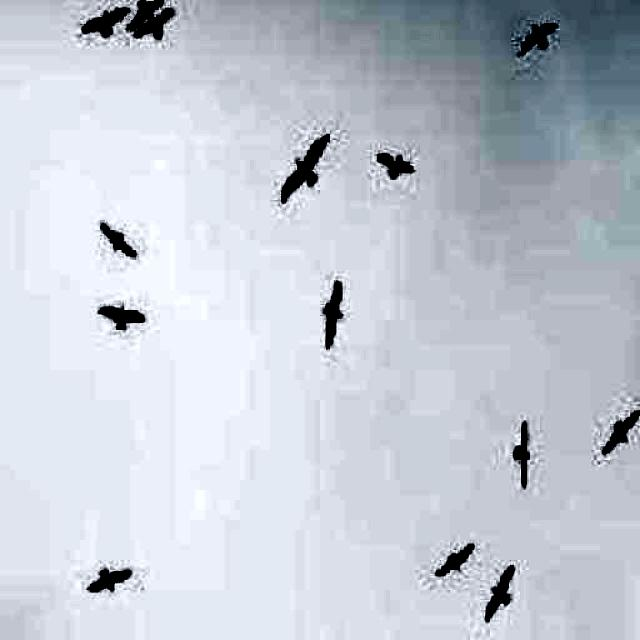airplane: (279, 138, 329, 205), (604, 410, 640, 454), (486, 568, 514, 624), (99, 221, 138, 259), (80, 8, 130, 36), (99, 302, 145, 331), (436, 544, 474, 578), (134, 9, 174, 41), (325, 278, 342, 350), (519, 24, 555, 58), (128, 0, 165, 31), (90, 569, 134, 595), (515, 421, 531, 489), (376, 154, 414, 180)
